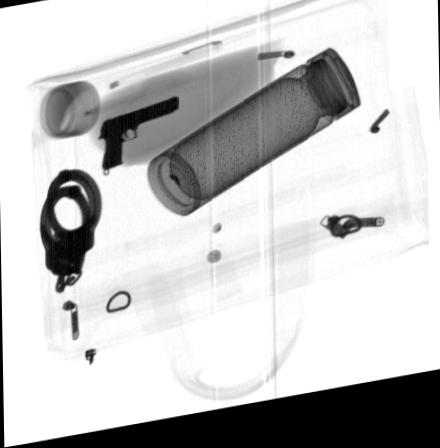Gun: (96, 100, 179, 177)
HandCuffs: (36, 170, 102, 296)
